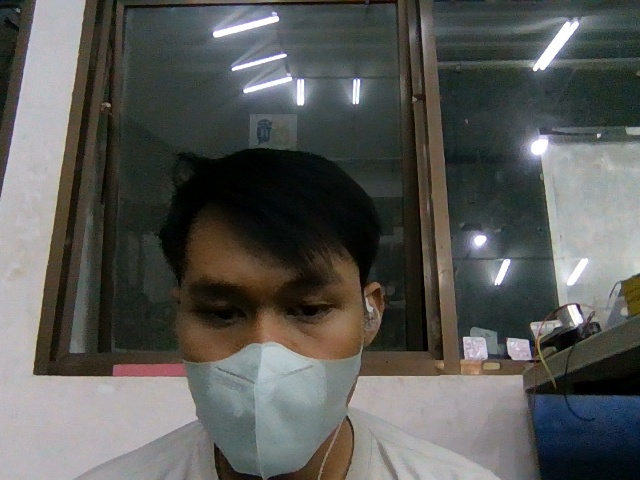mask_on: (178, 341, 359, 477)
